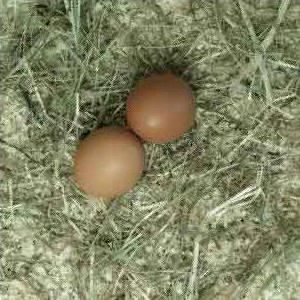egg: (73, 126, 146, 200), (126, 72, 197, 144)
